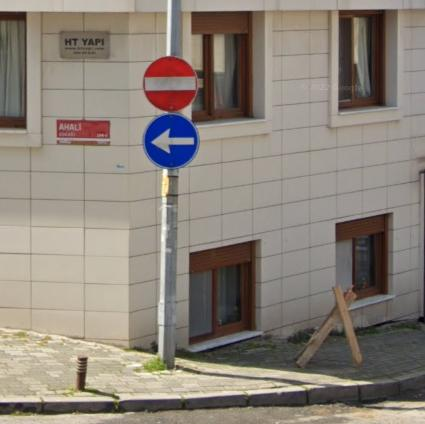turnleft: (143, 113, 199, 169)
